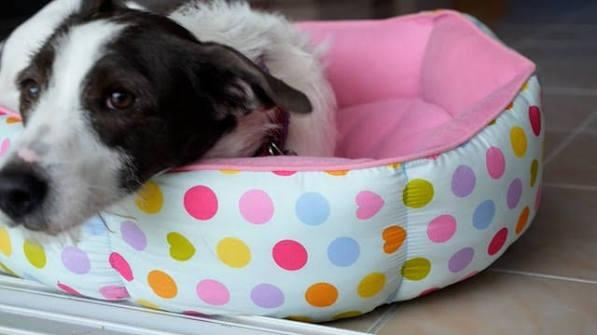adult_dog: (1, 1, 337, 238)
